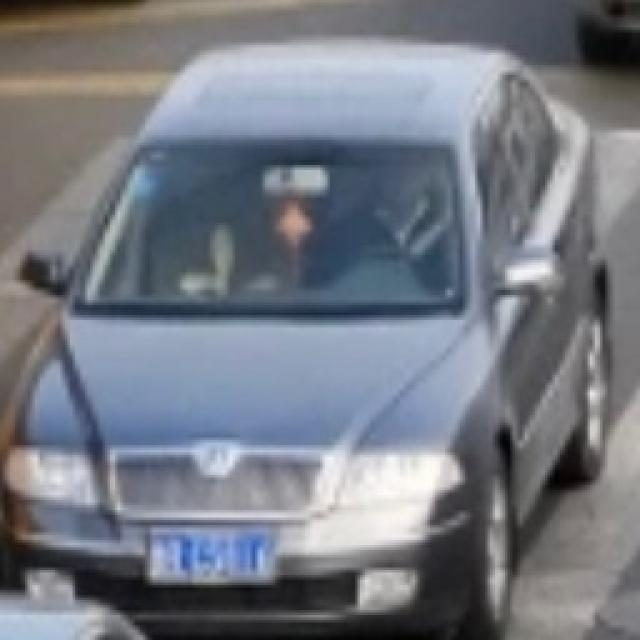windshield: (64, 129, 476, 327)
